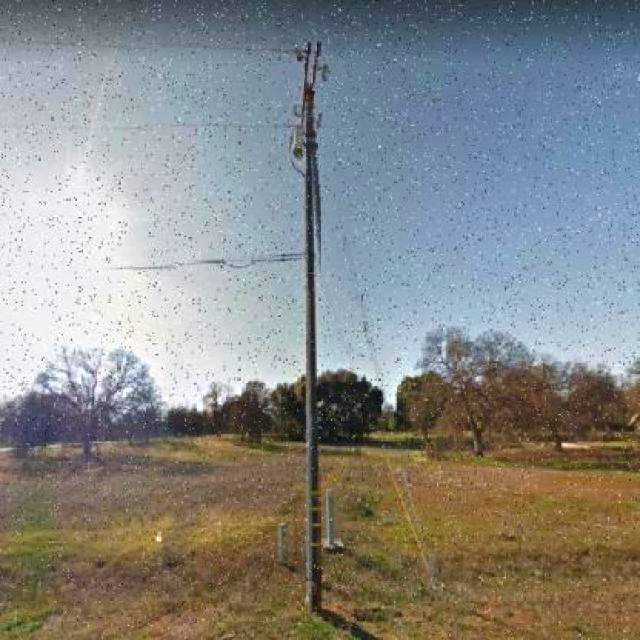crossarm: (305, 42, 320, 91)
pole: (307, 82, 321, 326)
transformer: (290, 128, 304, 155)
wire: (111, 255, 302, 271)
